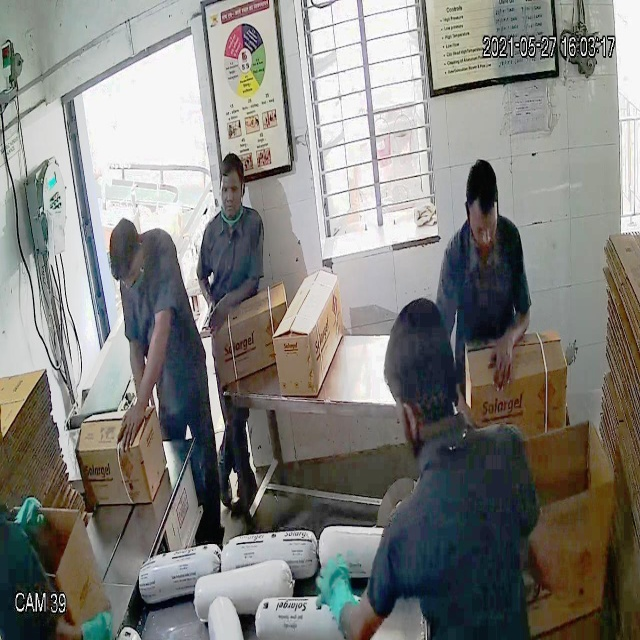Sin_gafas: (216, 174, 246, 206)
